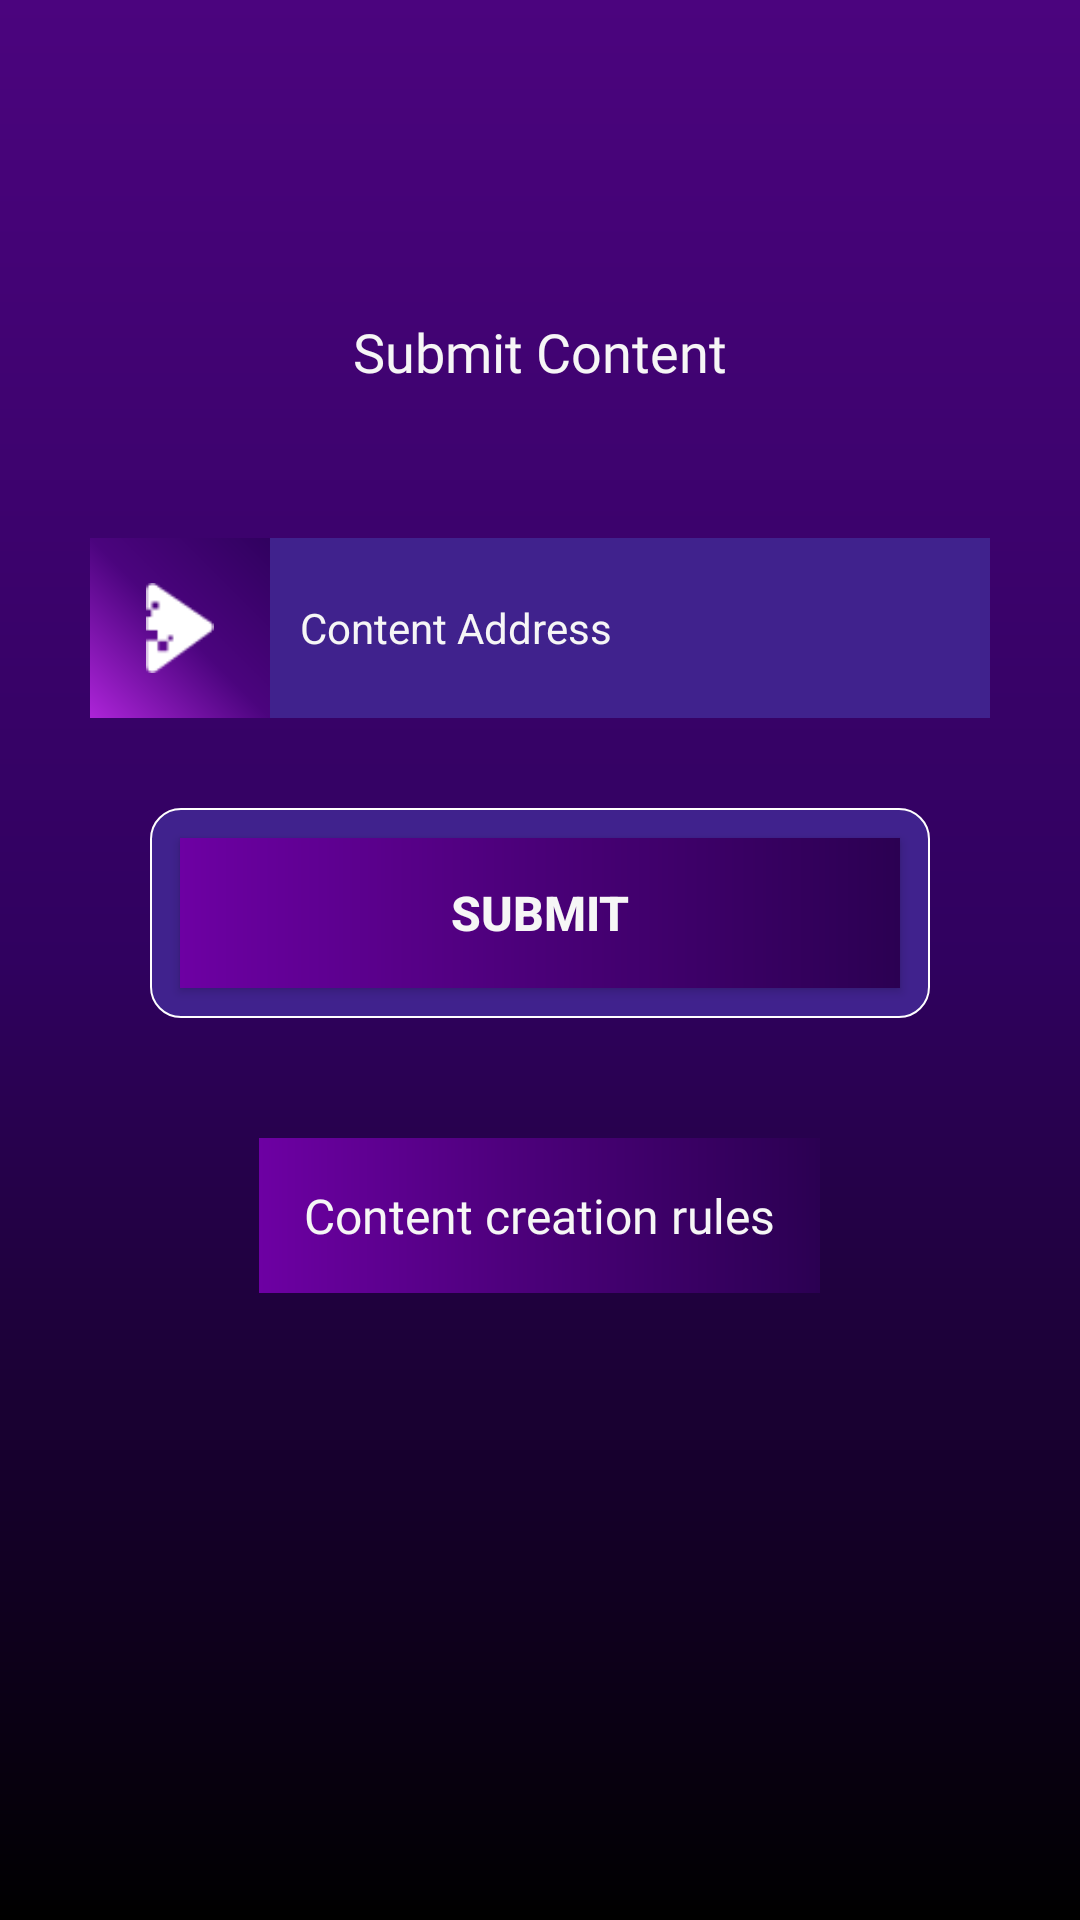

Locate icon controls on the screen. Image size 1080*1920, boxes as (x1, y1, x2, y2).
play: (90, 549, 259, 718)
